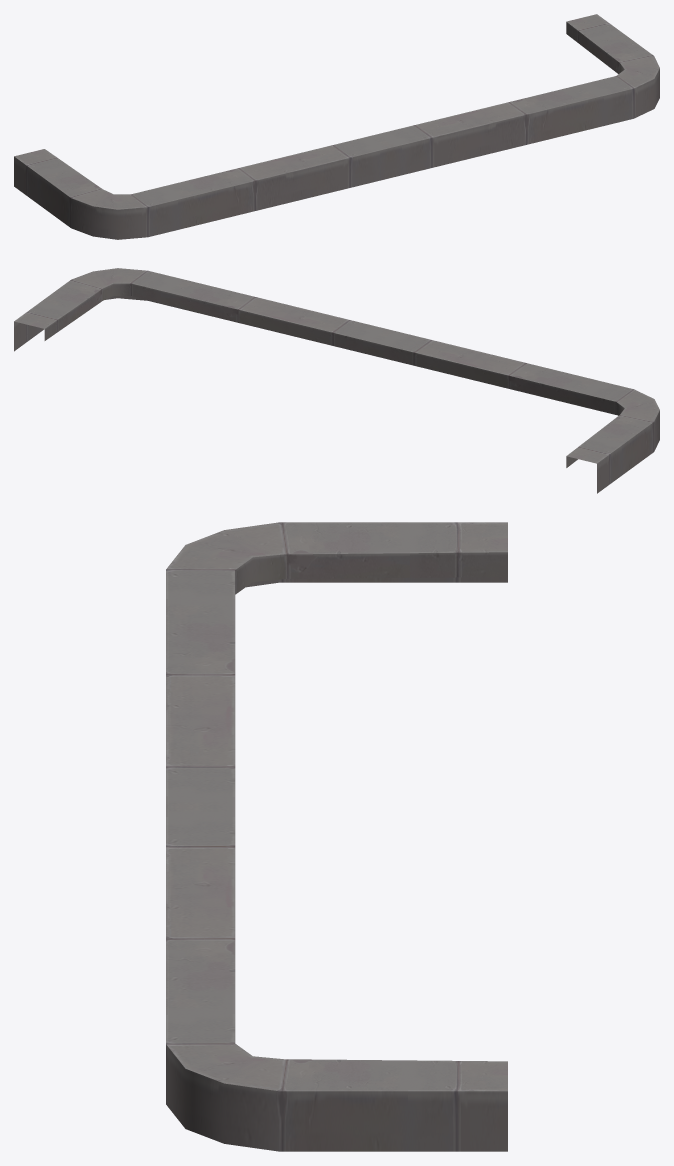
The model's file is scene_luoliante_baobian01.FBX.
3 renders of one model, top to bottom at view 1: azimuth 30°, elevation 25°; view 2: azimuth 150°, elevation 25°; view 3: azimuth 270°, elevation 25°, orthographic. The views are drawn at different scales.
Visible parts, largest first — view 1: scene_luoliante_baobian01; view 2: scene_luoliante_baobian01; view 3: scene_luoliante_baobian01.
Boxes of the visible parts, bbox=[...] form: scene_luoliante_baobian01: bbox=[14, 14, 659, 239]; scene_luoliante_baobian01: bbox=[14, 268, 659, 493]; scene_luoliante_baobian01: bbox=[166, 522, 507, 1151].
Bounding box in the file's own units: 531 × 26.27 × 135.
1 material, 1 textured.
